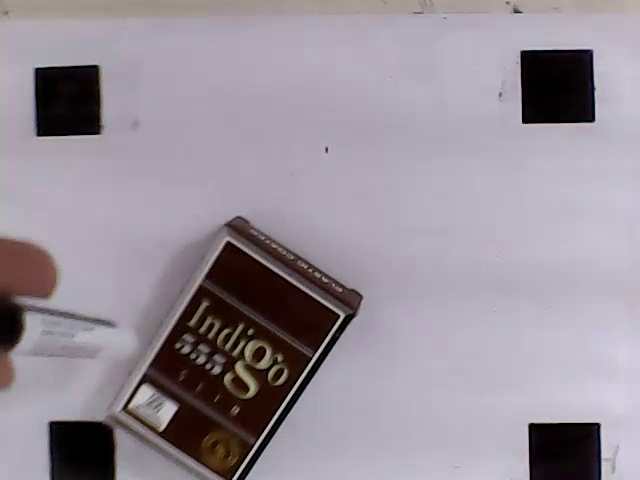BEX: (123, 241, 344, 480)
